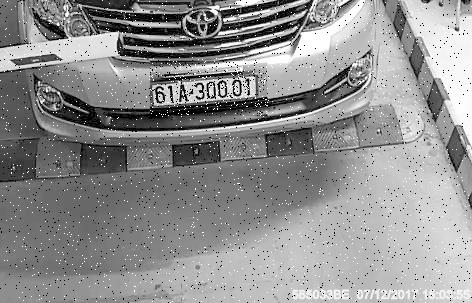License-plate: (152, 63, 270, 119)
